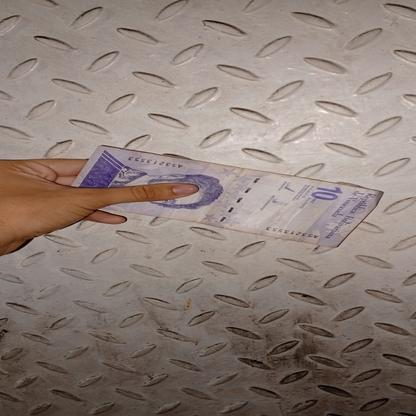ten-front-vef: (67, 144, 382, 248)
